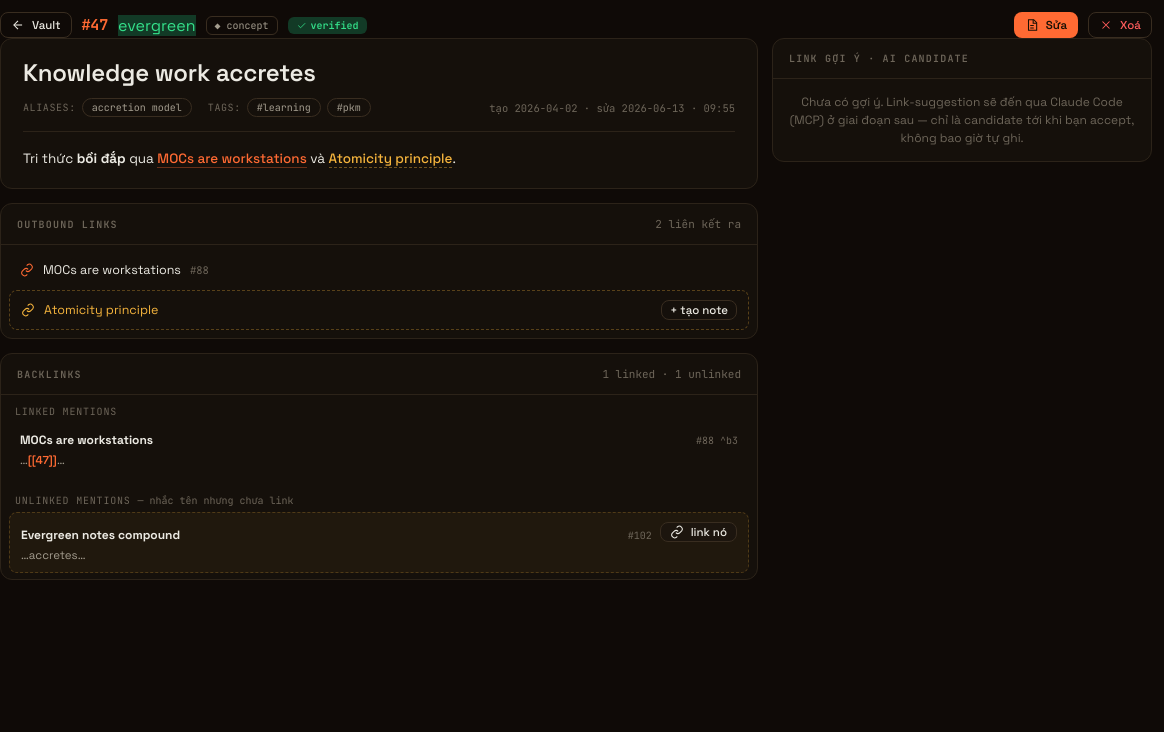
Scenario: W2 Note view/edit › TEETH: save FAILS (422) → error surfaces, edit mode STAYS open (fail-closed)
Click the button with test id "wiki-edit-btn": (1046, 25) left=1014, top=12, right=1078, bottom=38
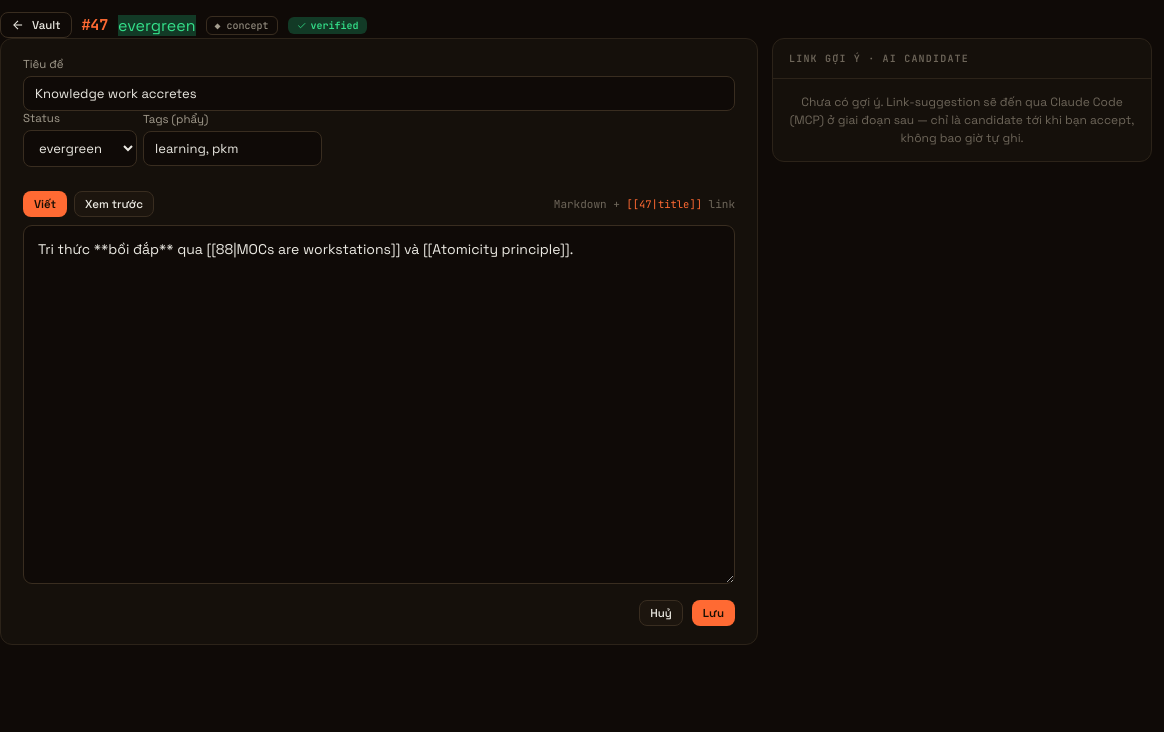
Click the button with test id "wiki-edit-save": (713, 613) left=692, top=600, right=735, bottom=626
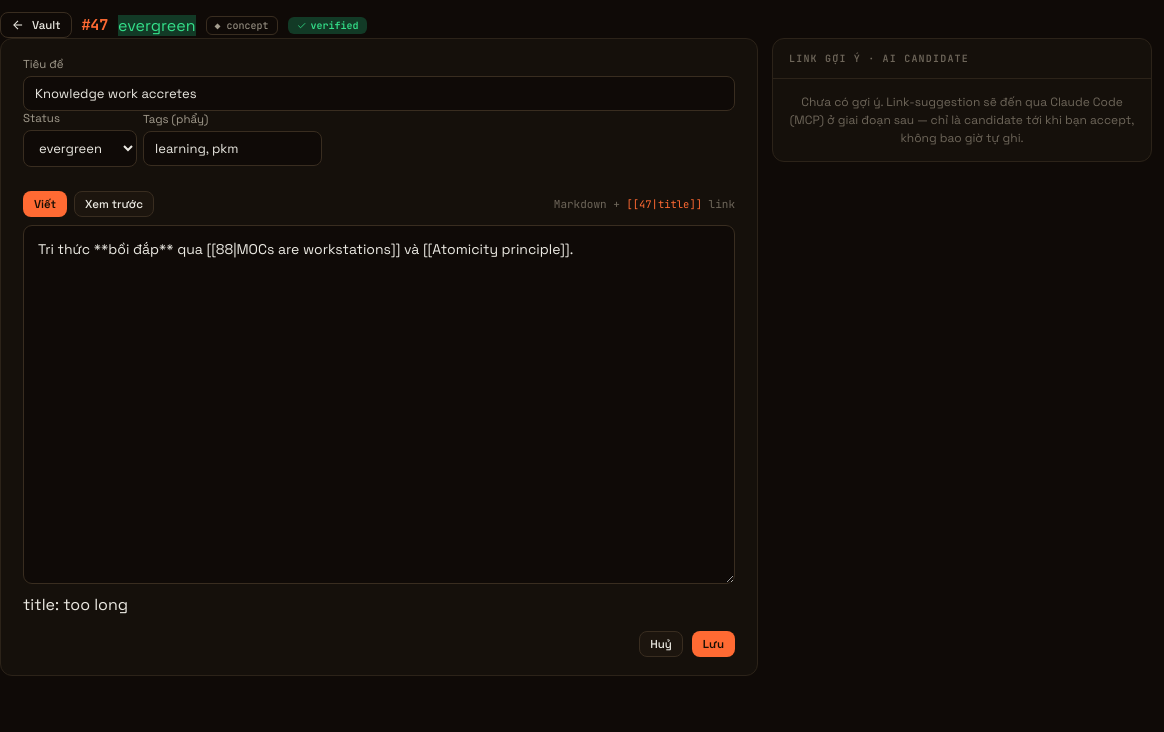
Now the button with test id "wiki-edit-save" is shown, box left=692, top=631, right=735, bottom=657
Now the text with test id "wiki-edit-error" shows "too long", box left=23, top=594, right=128, bottom=615
